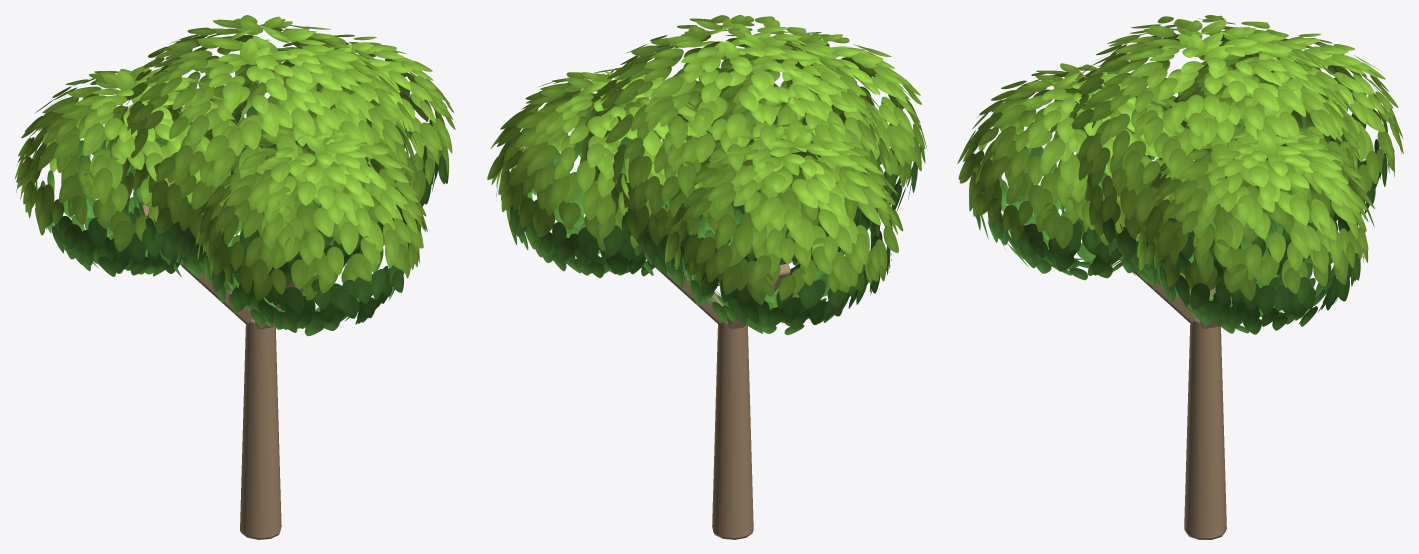
The model's file is street_tree.glb.
3 renders of one model, left to right at view 1: azimuth 30°, elevation 25°; view 2: azimuth 150°, elevation 25°; view 3: azimuth 270°, elevation 25°, orthographic.
Parts seen in each view (by area): view 1: foliage, trunk; view 2: foliage, trunk; view 3: foliage, trunk.
Boxes of the visible parts, bbox=[...] form: foliage: bbox=[14, 15, 455, 336]; trunk: bbox=[133, 204, 323, 539]; foliage: bbox=[487, 15, 926, 335]; trunk: bbox=[646, 259, 790, 539]; foliage: bbox=[957, 15, 1403, 334]; trunk: bbox=[1119, 259, 1256, 539].
Bounding box in the file's own units: 3.85 × 4.65 × 3.76.
3 materials, 2 textured.
